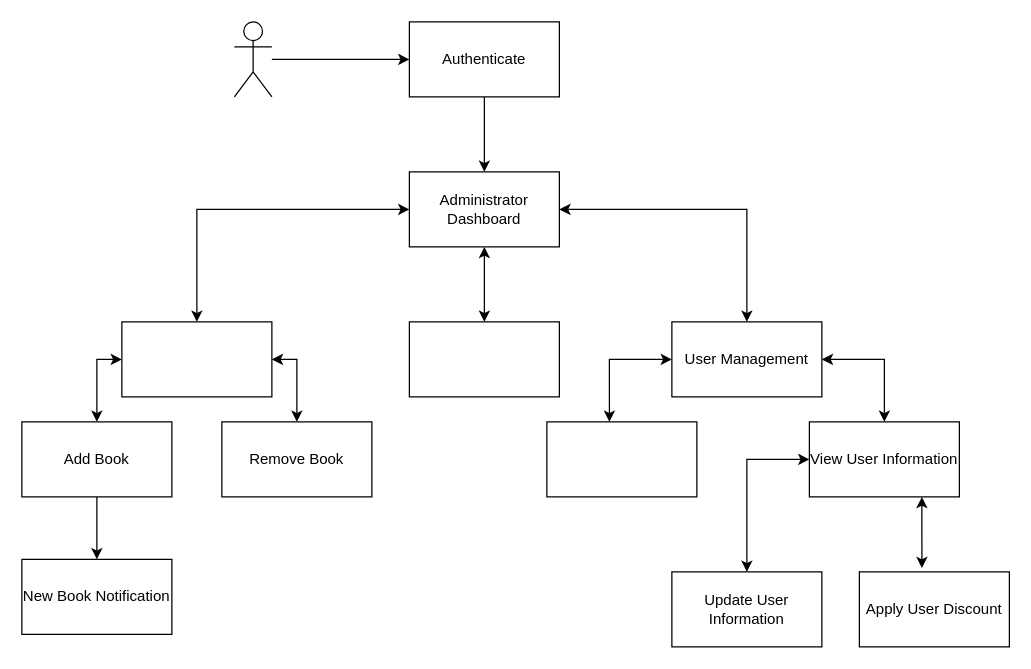
This 1031x669 diagram has some shape labels left out. Here are the shapes that lost their labels. From the top down, the box of each, then its label:
(233, 21, 272, 97): Actor
(121, 321, 272, 397): Inventory Management
(408, 321, 559, 397): Subscription Rule Management
(546, 421, 697, 497): Create Account
